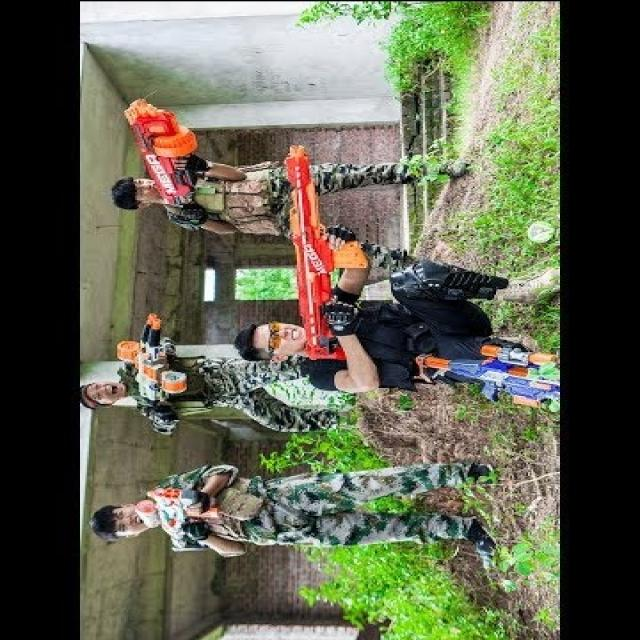Nerf gun: (267, 140, 369, 360), (409, 340, 565, 417), (115, 94, 198, 223), (112, 311, 194, 420), (132, 482, 224, 562)
